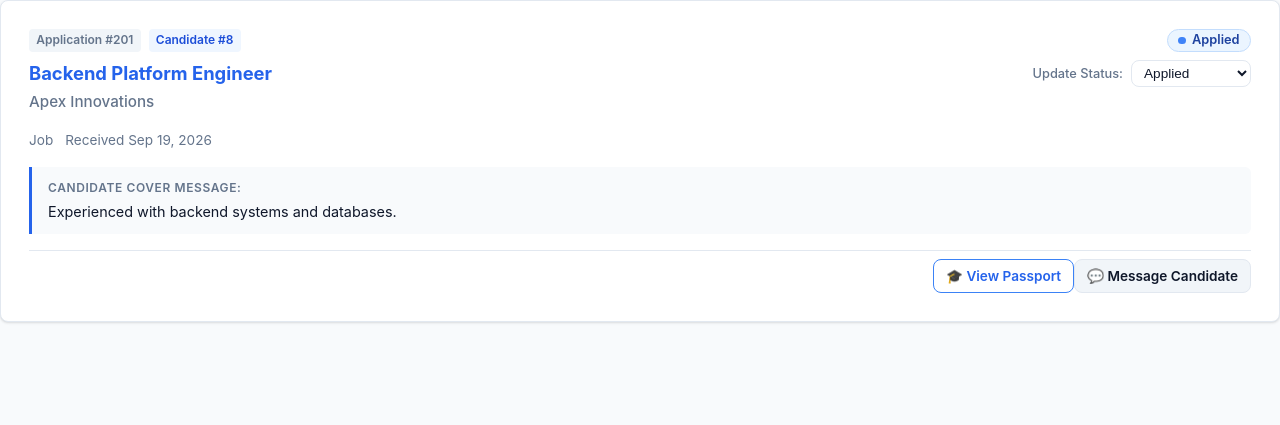
it: RecruiterApplicationCard Component › displays error alert and reverts select value when status update fails
Select "Shortlisted" in the dropdown named "Change status for Application #201" at coordinates (1191, 73), box [1131,60,1251,87]
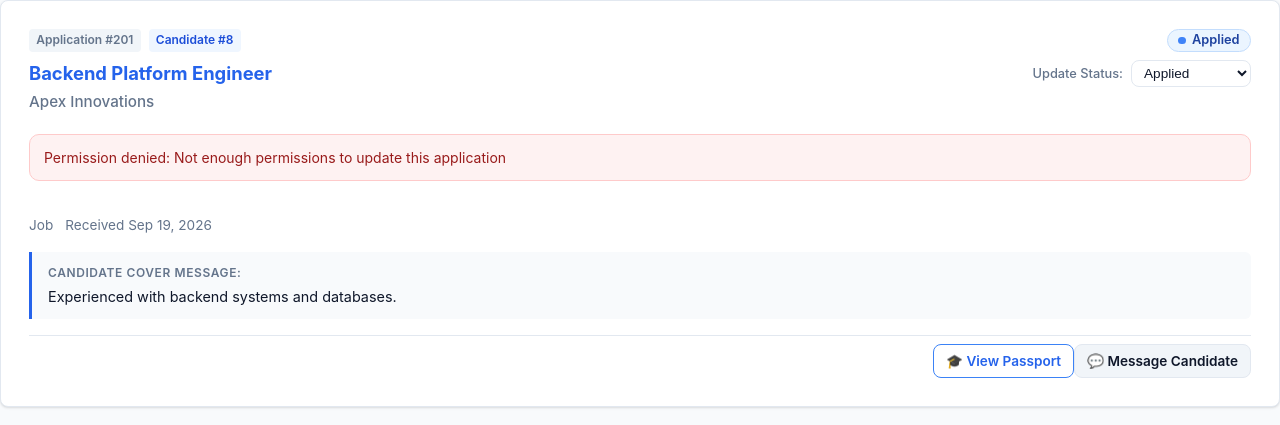
Now the message "Permission denied: Not enough permissions to update this application" is shown, box [29,134,1251,181]
